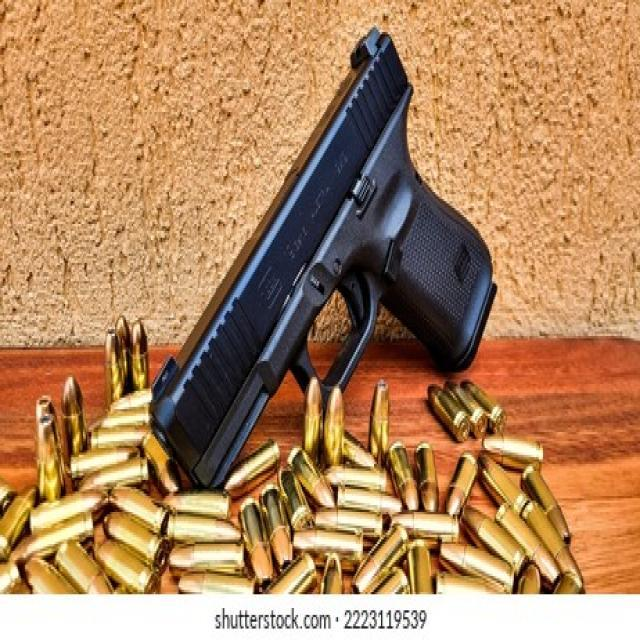handgun: (152, 17, 502, 493)
